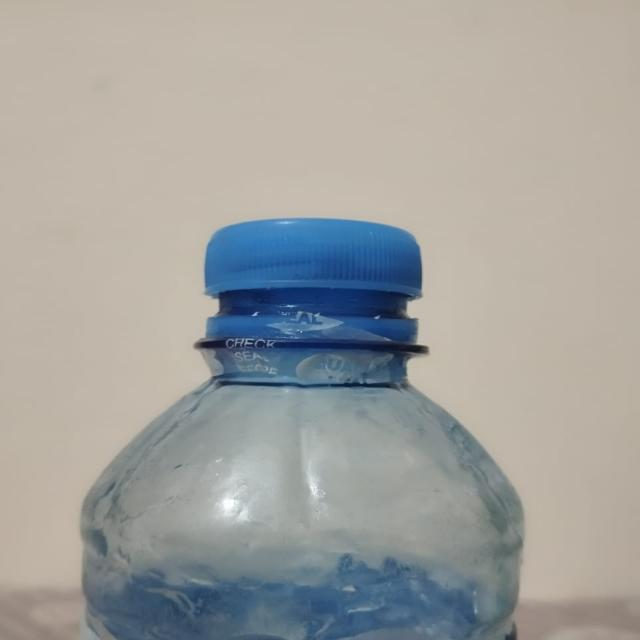bottle: (63, 195, 505, 640)
cap: (170, 205, 438, 372)
